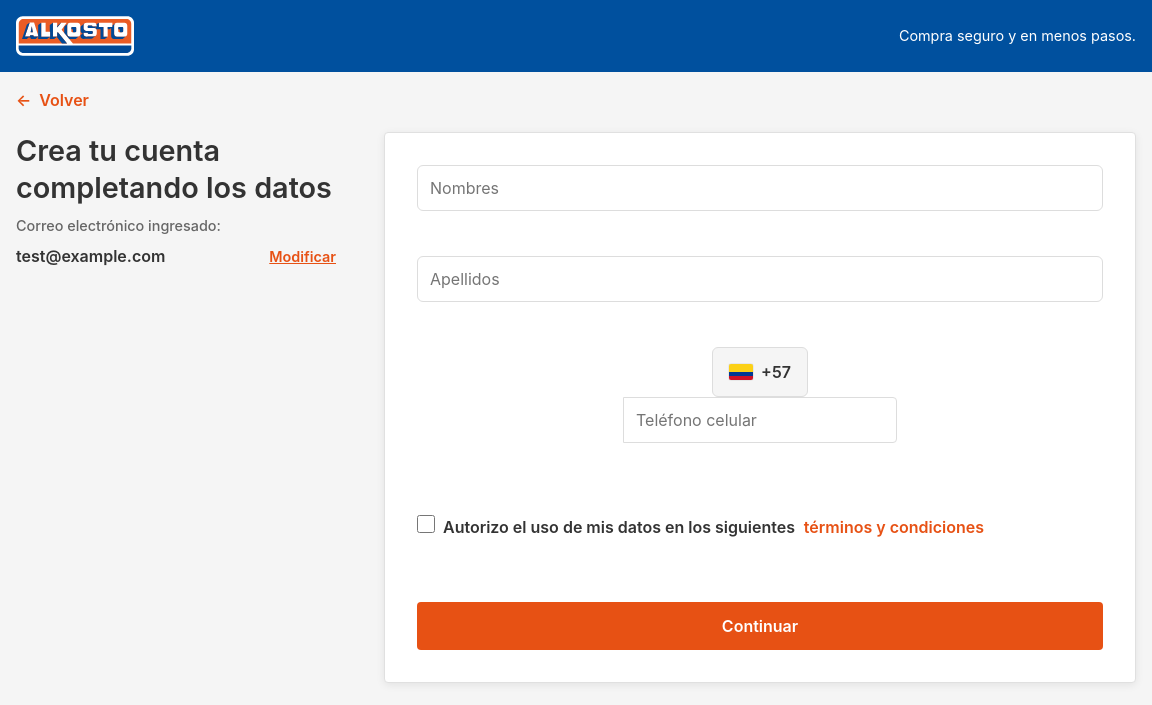
it: RF01 - REGISTRAR USUARIO - Pruebas Unitarias Completas › 9. Manejo de Errores y Mensajes › 9.1 Errores se limpian al corregir campos
Enviar formulario vacío para generar errores
Click the button "Continuar" at (760, 626), box [417,602,1103,650]
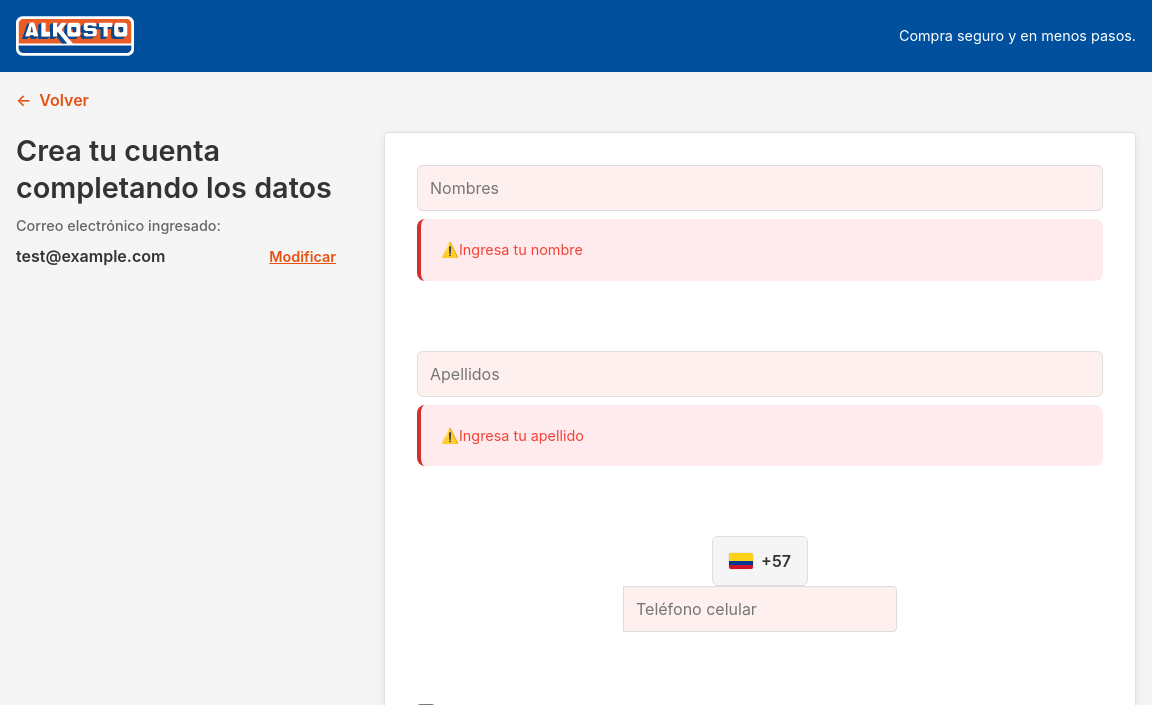
Now the text "Ingresa tu nombre" is shown, box [417,219,1103,281]
Corregir el campo
Type "Juan" into the field with placeholder "Nombres" at (760, 188), box [417,165,1103,211]
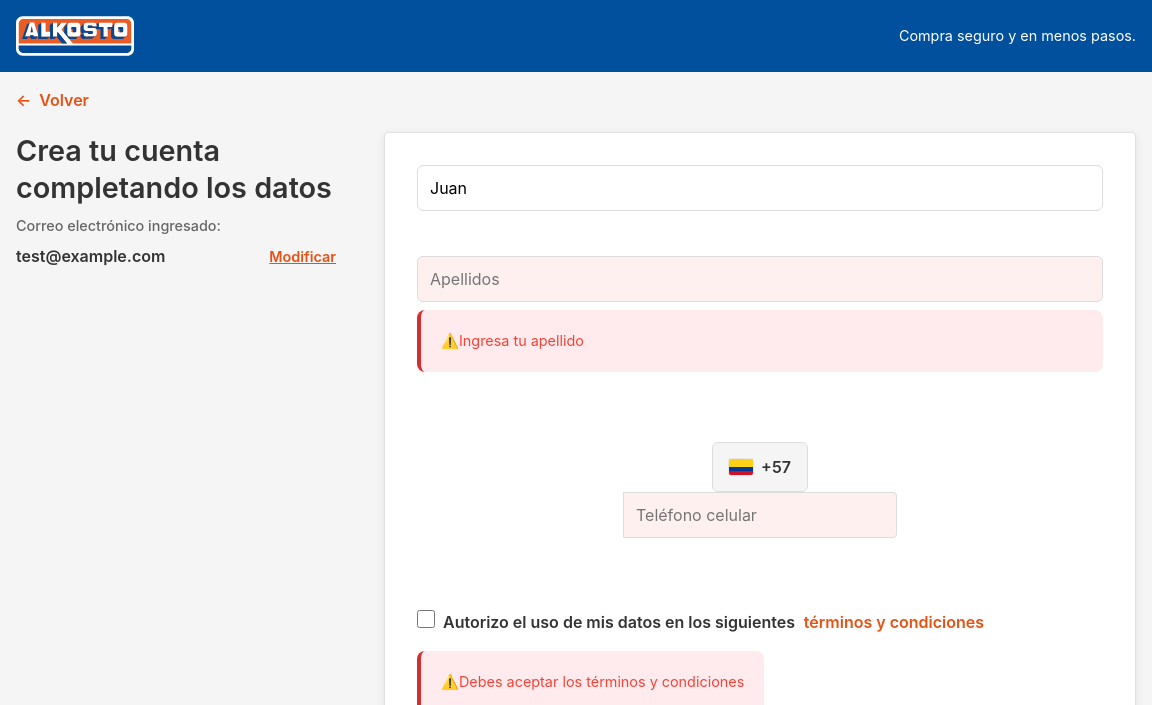
Now the text "Ingresa tu nombre" is gone
